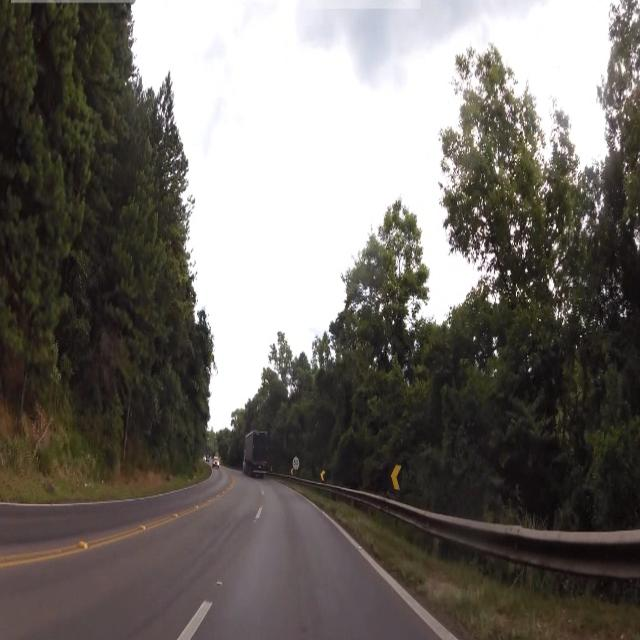Del: (390, 459, 403, 497)
